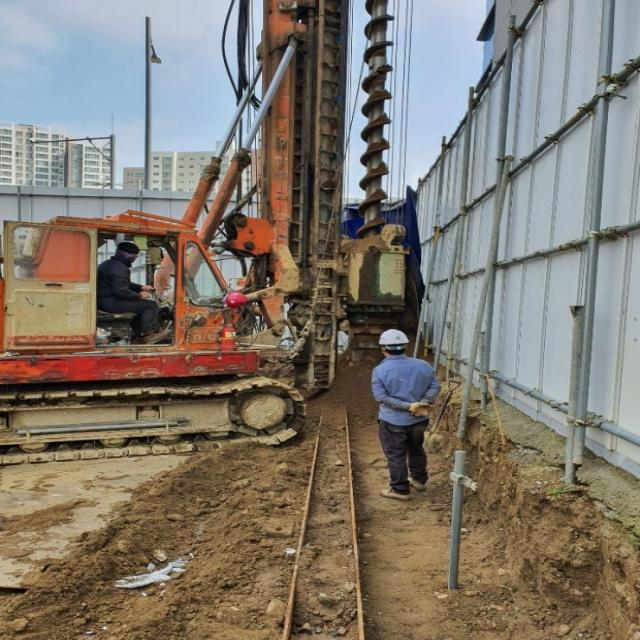pile: (357, 0, 395, 240)
